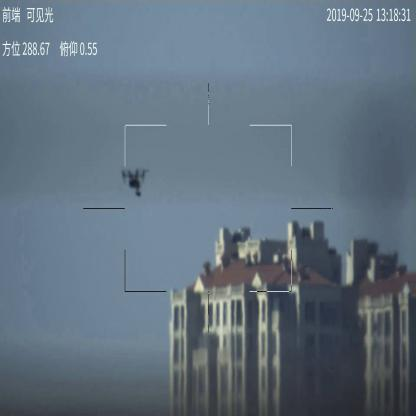uav: (121, 168, 148, 198)
